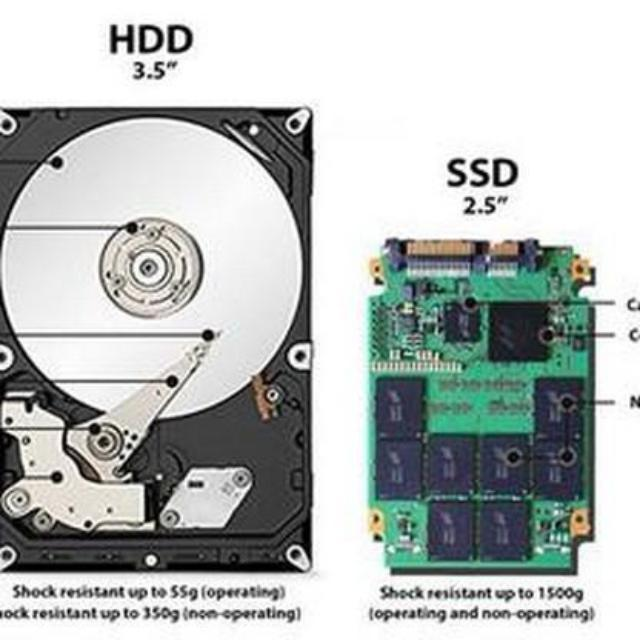DISK: (0, 102, 320, 586)
